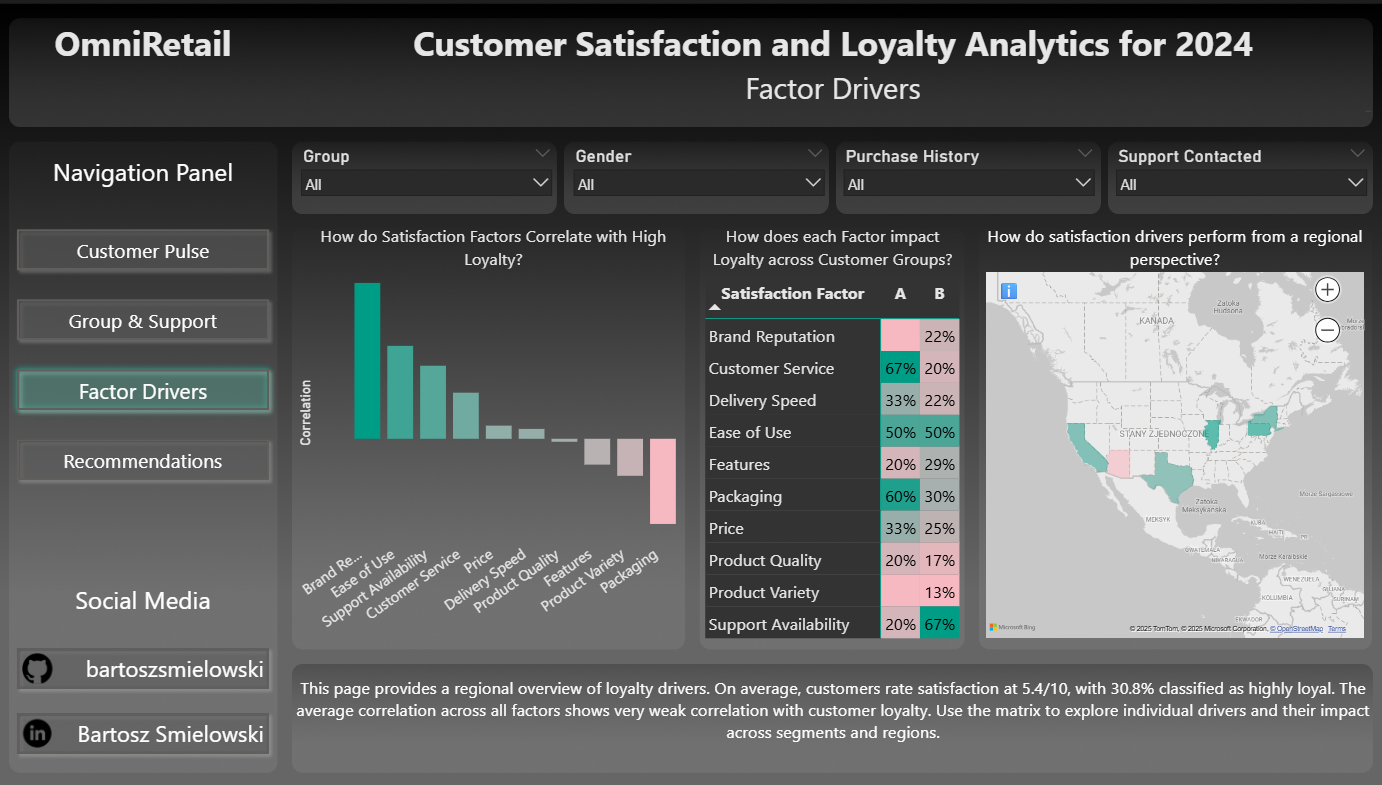

What the dashboard file says about the page in this screenshot:
{"tool":"powerbi","page":{"name":"FactorDrivers","canvas":[1920,1080],"ordinal":2},"visuals":[{"type":"textbox","title":"Customer Satisfaction and Loyalty Analytics for 2024","box":[407.8,0,1493.9,133.4],"z":0},{"type":"slicer","title":"Slicer_Group","fields":{"Values":["Dim_Customer.Group"]},"box":[411.6,163.9,365.8,99.1],"z":1000},{"type":"slicer","title":"Slicer_Gender","fields":{"Values":["Dim_Customer.Gender"]},"box":[786.9,163.9,365.8,99.1],"z":2000},{"type":"slicer","title":"Slicer_PurchaseHistory","fields":{"Values":["Dim_Customer.Purchase_History"]},"box":[1160.4,163.9,365.8,99.1],"z":3000},{"type":"slicer","title":"Slicer_SupportContacted","fields":{"Values":["Dim_Customer.Support_Contacted"]},"box":[1535.8,163.9,365.8,99.1],"z":4000},{"type":"textbox","box":[407.8,886,1493.9,150.5],"z":5000},{"type":"pivotTable","title":"How does each Factor impact Loyalty across Customer Groups?","fields":{"Rows":["Dim_Satisfaction.Satisfaction_Factor"],"Columns":["Dim_Customer.Group"],"Values":["# Measures.# FactorLoyaltyImpact"]},"box":[971.8,280.1,365.8,588.8],"z":6000},{"type":"textbox","title":"OmniRetail","box":[17.1,0,373.5,133.4],"z":7000},{"type":"clusteredColumnChart","title":"How do Satisfaction Factors Correlate with High Loyalty?","fields":{"Category":["Dim_Satisfaction.Satisfaction_Factor"],"Y":["# Measures.Factor_Correlation"]},"box":[411.6,280.1,550.7,588.8],"z":8000},{"type":"filledMap","title":"How do satisfaction drivers perform from a regional perspective?","fields":{"Category":["Dim_Location.State"]},"box":[1356.7,280.1,541,577],"z":9000},{"type":"cardVisual","title":"ℹ️","fields":{"Data":["# Measures.# FD_LocationInfoTooltip"]},"box":[1367.3,337.3,59.1,60.9],"z":10000},{"type":"actionButton","box":[17.1,947,373.5,74.3],"z":11000},{"type":"actionButton","box":[17.1,857.5,373.5,74.3],"z":12000},{"type":"textbox","title":"Navigation Panel","box":[17.1,188.6,373.5,49.5],"z":13000},{"type":"actionButton","box":[17.1,280.1,373.5,74.3],"z":14000},{"type":"actionButton","box":[17.1,377.3,373.5,74.3],"z":15000},{"type":"actionButton","box":[17.1,474.5,373.5,74.3],"z":16000},{"type":"textbox","title":"Social Media","box":[17.1,777.4,373.5,49.5],"z":17000},{"type":"actionButton","box":[17.1,569.7,373.5,74.3],"z":18000}]}

Visuals, with their boxes in screenshot pixels (x1, y1, x2, y2), scaled from the page's 1920x1080 canvas onto the 1382x785 screenshot:
"Customer Satisfaction and Loyalty Analytics for 2024" textbox: detection(294, 0, 1369, 97)
"Slicer_Group" slicer: detection(296, 119, 560, 191)
"Slicer_Gender" slicer: detection(566, 119, 830, 191)
"Slicer_PurchaseHistory" slicer: detection(835, 119, 1099, 191)
"Slicer_SupportContacted" slicer: detection(1105, 119, 1369, 191)
textbox: detection(294, 644, 1369, 753)
"How does each Factor impact Loyalty across Customer Groups?" pivotTable: detection(699, 204, 963, 632)
"OmniRetail" textbox: detection(12, 0, 281, 97)
"How do Satisfaction Factors Correlate with High Loyalty?" clusteredColumnChart: detection(296, 204, 693, 632)
"How do satisfaction drivers perform from a regional perspective?" filledMap: detection(977, 204, 1366, 623)
"ℹ️" cardVisual: detection(984, 245, 1027, 289)
actionButton: detection(12, 688, 281, 742)
actionButton: detection(12, 623, 281, 677)
"Navigation Panel" textbox: detection(12, 137, 281, 173)
actionButton: detection(12, 204, 281, 258)
actionButton: detection(12, 274, 281, 328)
actionButton: detection(12, 345, 281, 399)
"Social Media" textbox: detection(12, 565, 281, 601)
actionButton: detection(12, 414, 281, 468)
